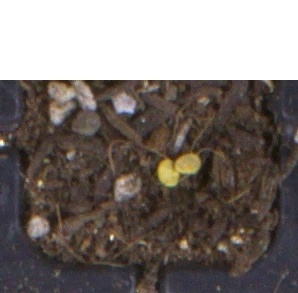chilli seed: (156, 158, 180, 187), (174, 153, 202, 175)
